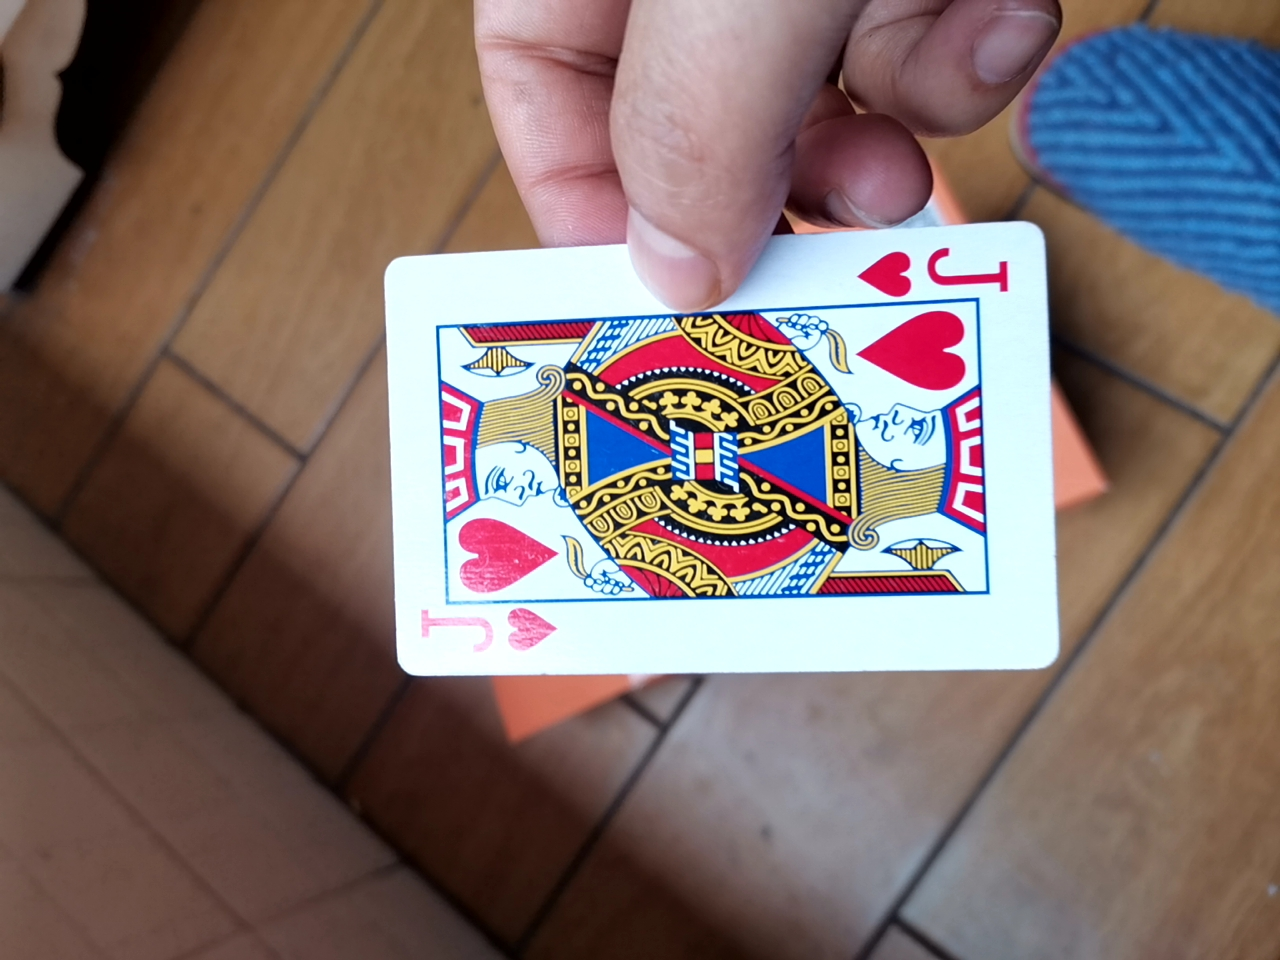hx j: (360, 214, 1084, 690)
